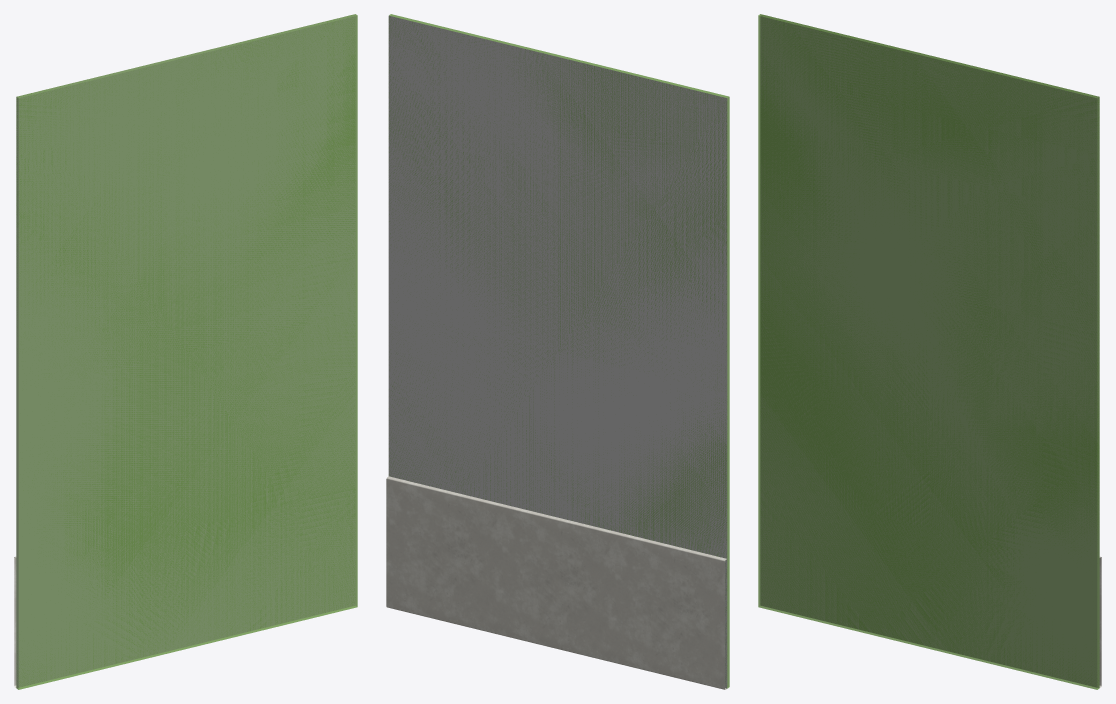
The model's file is F9_md_Wall_5x3_01.fbx.
The picture shows the model from 3 angles, left to right: view 1: azimuth 30°, elevation 25°; view 2: azimuth 150°, elevation 25°; view 3: azimuth 330°, elevation 25°; orthographic projection.
Visible parts, largest first — view 1: F9_md_Wall_5x3_WL_01_col_1, F9_md_Wall_5x3_01_LOD0; view 2: F9_md_Wall_5x3_01_LOD0, F9_md_Wall_5x3_WL_01_col_1; view 3: F9_md_Wall_5x3_WL_01_col_1, F9_md_Wall_5x3_01_LOD0.
Boxes of the visible parts, x1,y1,x2,y2 form: F9_md_Wall_5x3_WL_01_col_1: (16,14,357,689); F9_md_Wall_5x3_01_LOD0: (14,14,355,688); F9_md_Wall_5x3_01_LOD0: (386,15,727,689); F9_md_Wall_5x3_WL_01_col_1: (388,14,729,688); F9_md_Wall_5x3_WL_01_col_1: (758,14,1099,689); F9_md_Wall_5x3_01_LOD0: (760,14,1101,688).
Size of what is drawn, in the model's own units: 300 by 500 by 6.83.
